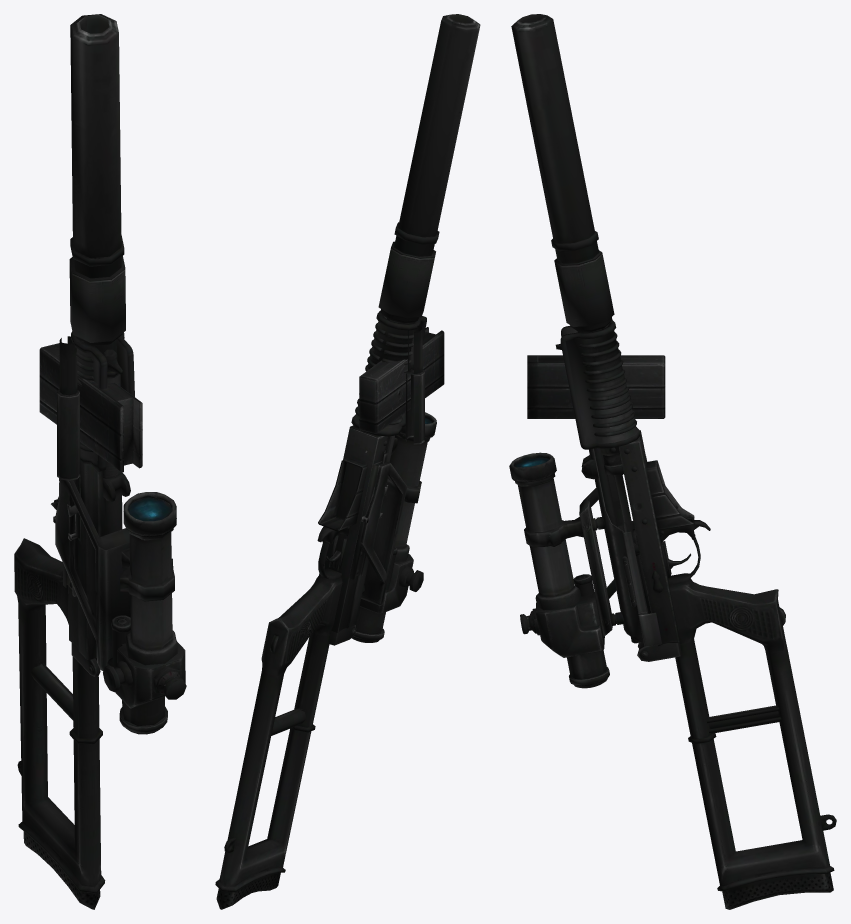
The model's file is VSK94.obj.
3 views of the same model, side by side, from view 1: azimuth 30°, elevation 25°; view 2: azimuth 150°, elevation 25°; view 3: azimuth 270°, elevation 25° (orthographic). The views are drawn at different scales.
Parts seen in each view (by area): view 1: VSK_94,VSK_94_lens, Magazine, Handle; view 2: VSK_94,VSK_94_lens, Magazine, Handle; view 3: VSK_94,VSK_94_lens, Magazine.
Part boxes in pixels (x1,y1,x2,y2): VSK_94,VSK_94_lens: (14, 14, 186, 909); Magazine: (39, 343, 142, 472); Handle: (57, 336, 80, 480); VSK_94,VSK_94_lens: (215, 14, 480, 909); Magazine: (359, 327, 444, 433); Handle: (405, 325, 424, 444); VSK_94,VSK_94_lens: (509, 14, 836, 909); Magazine: (527, 355, 665, 418).
Bounding box in the file's own units: 0.1562 × 1.03 × 0.3601.
1 material, 1 textured.
